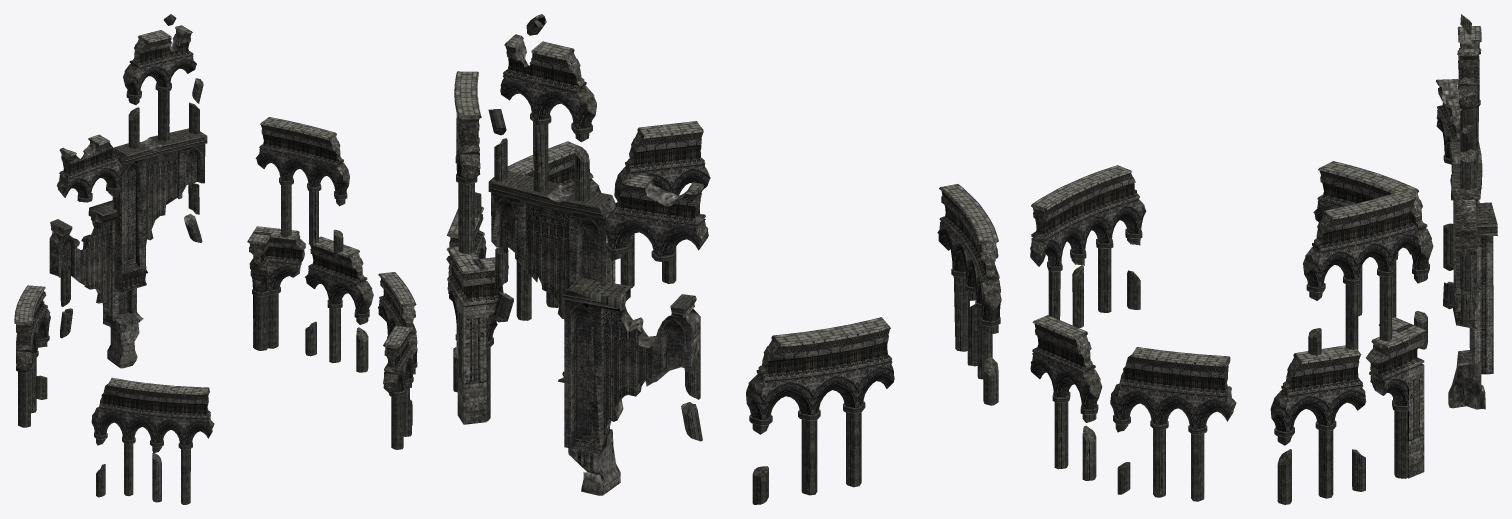
File: Wall1.fbx
The picture shows the model from 3 angles, left to right: view 1: azimuth 30°, elevation 25°; view 2: azimuth 150°, elevation 25°; view 3: azimuth 270°, elevation 25°; orthographic projection. The views are drawn at different scales.
Parts seen in each view (by area): view 1: LV_Nigraturis_BlackTower01_SM_SJW.001; view 2: LV_Nigraturis_BlackTower01_SM_SJW.001; view 3: LV_Nigraturis_BlackTower01_SM_SJW.001.
Boxes of the visible parts, x1,y1,x2,y2 form: LV_Nigraturis_BlackTower01_SM_SJW.001: (14,14,417,504); LV_Nigraturis_BlackTower01_SM_SJW.001: (446,14,1001,504); LV_Nigraturis_BlackTower01_SM_SJW.001: (1030,14,1497,504).
Size of the model in its own units: 32 by 30.56 by 30.74.
Materials: 1 (1 with a texture image).
